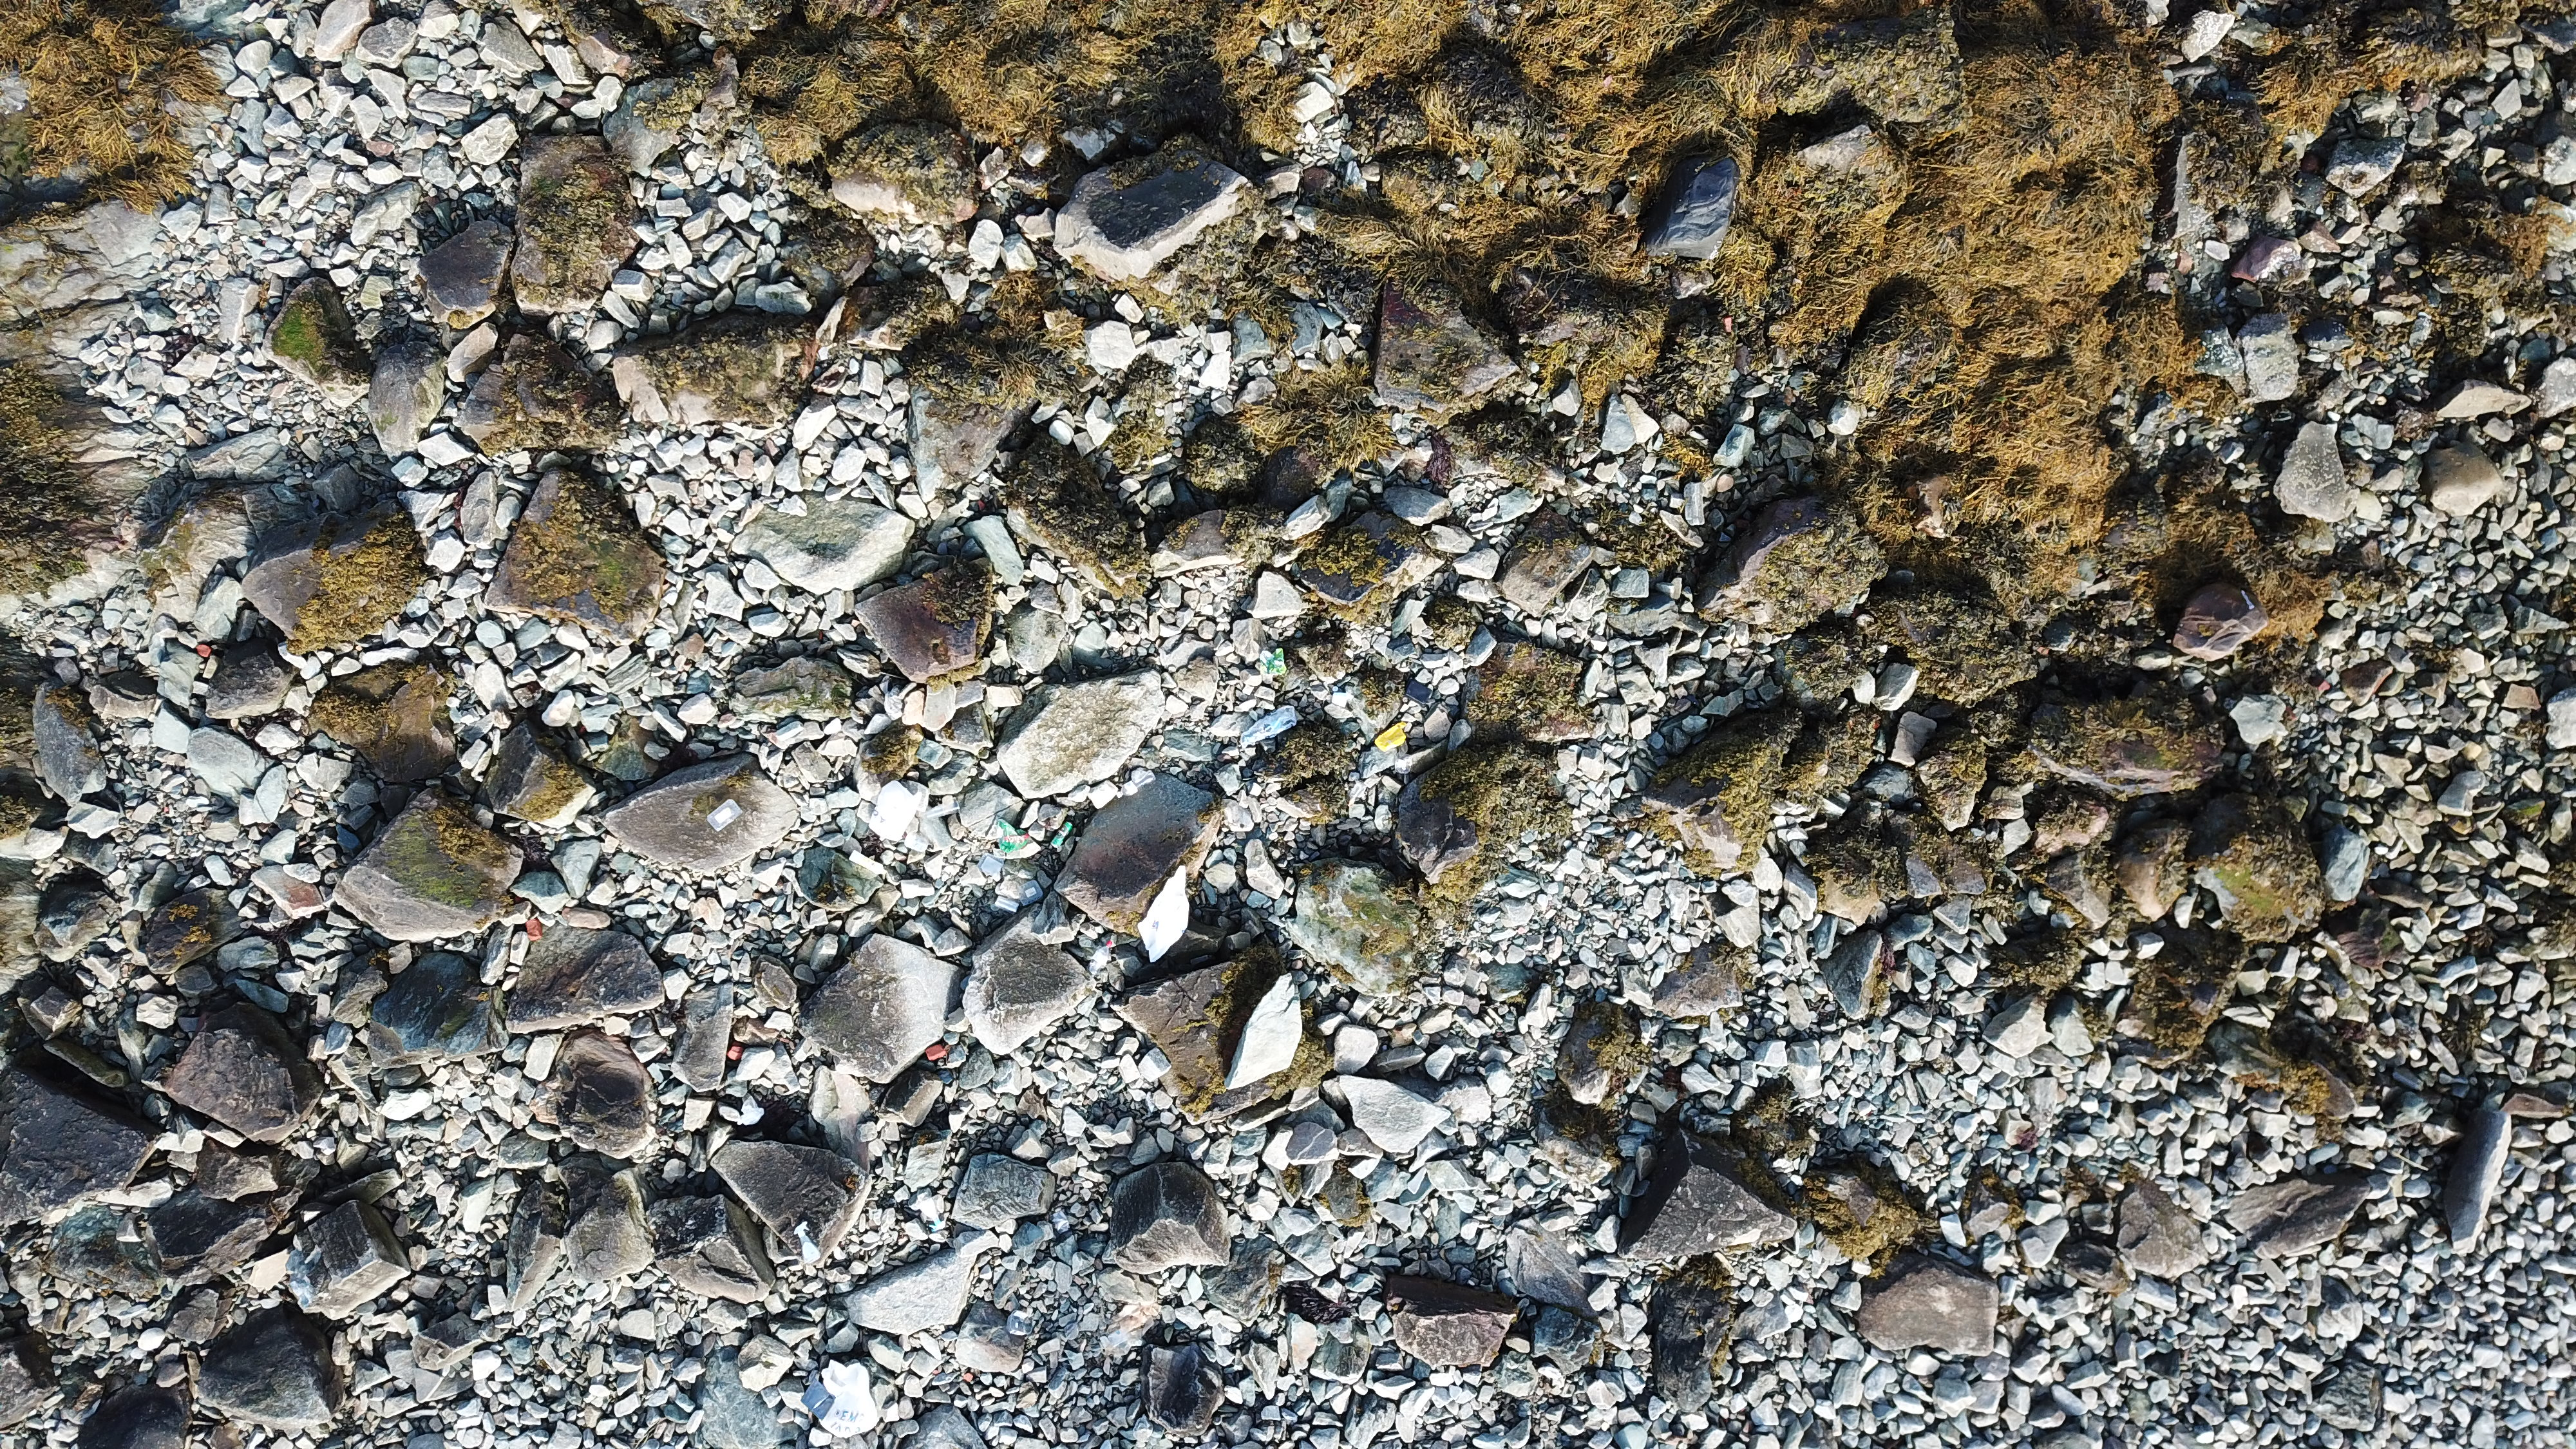Can: (1051, 821, 1074, 851)
Plastic: (1138, 863, 1191, 964), (824, 1357, 879, 1438), (869, 778, 924, 842), (1240, 704, 1299, 750), (801, 1376, 835, 1419), (793, 1219, 823, 1265), (994, 817, 1031, 855), (706, 798, 741, 833), (1375, 720, 1410, 752), (849, 849, 888, 876), (925, 798, 962, 823), (736, 1097, 766, 1127), (1261, 646, 1288, 679), (1017, 878, 1044, 908), (1007, 1309, 1035, 1336), (978, 851, 1005, 876), (994, 897, 1021, 915)
PlasticBottle: (1090, 939, 1115, 977)
